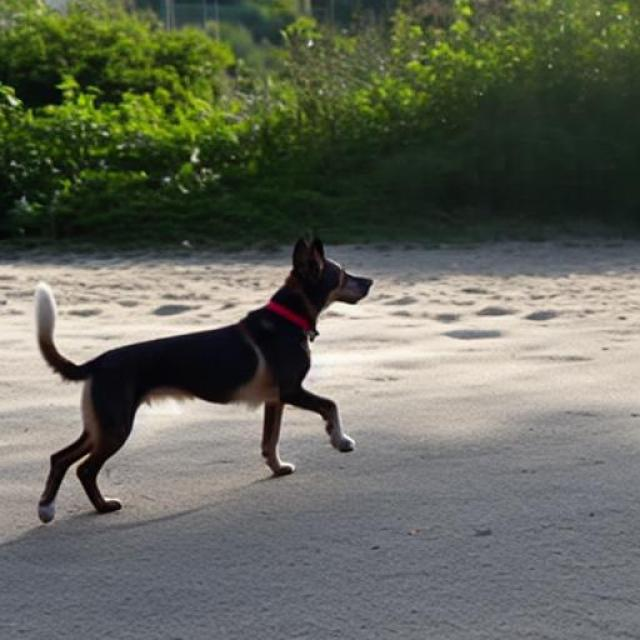Dog: (35, 235, 372, 524)
